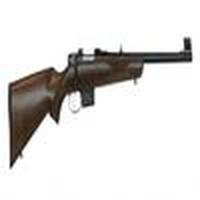gun: (6, 49, 200, 157)
